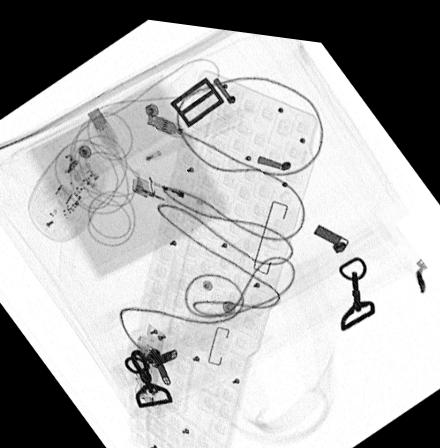Lighter: (130, 164, 188, 209)
